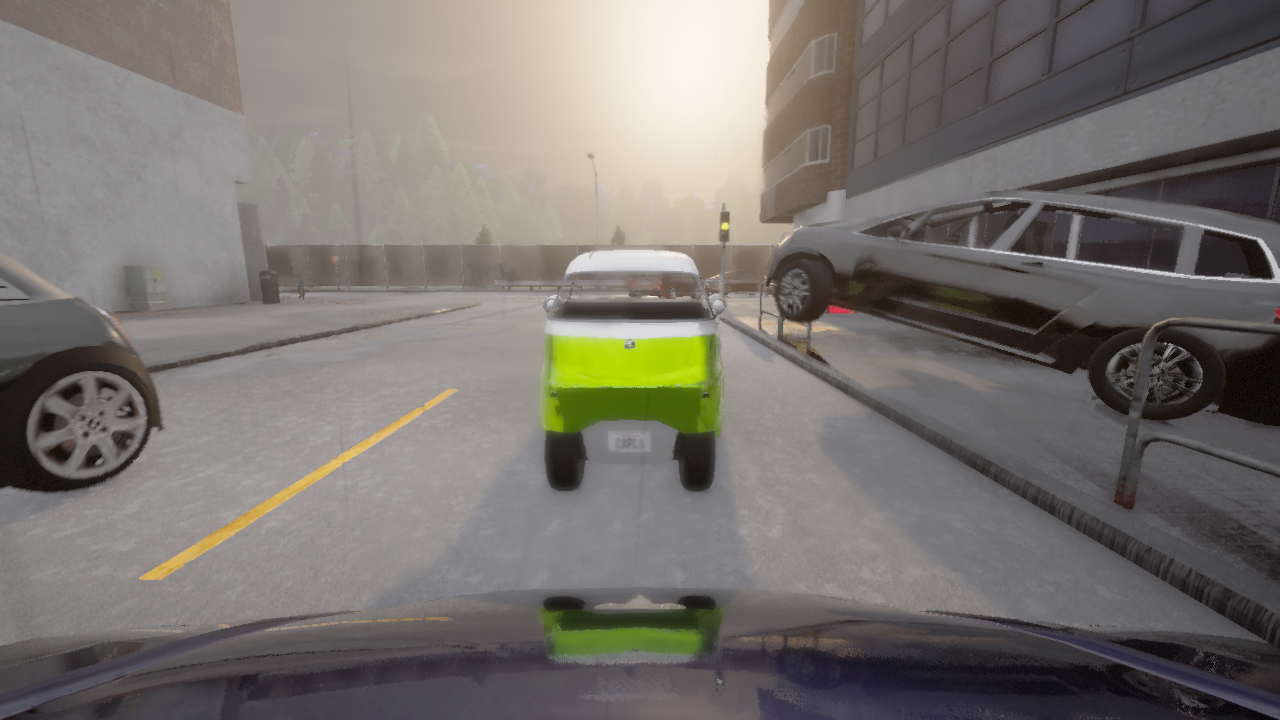cyclist: (0, 588, 1279, 719), (763, 190, 1279, 426), (540, 249, 725, 491), (702, 270, 776, 297)
pedestrian: (295, 274, 305, 300), (477, 262, 485, 289), (498, 262, 505, 288)
